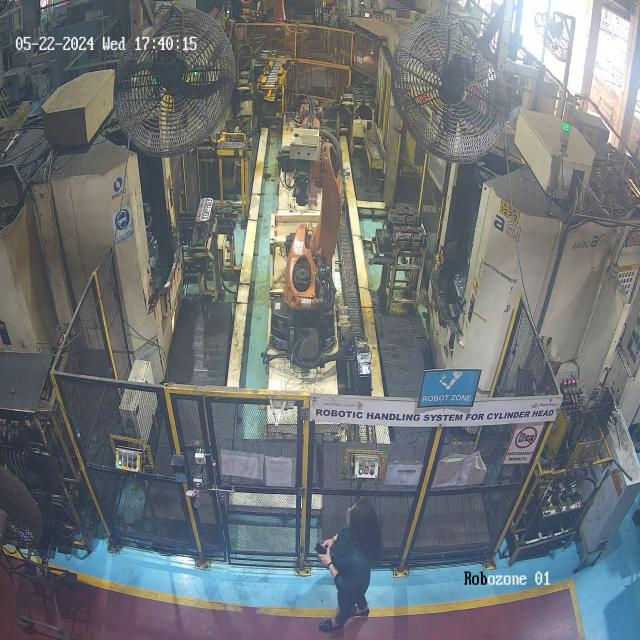person: (293, 472, 395, 637)
